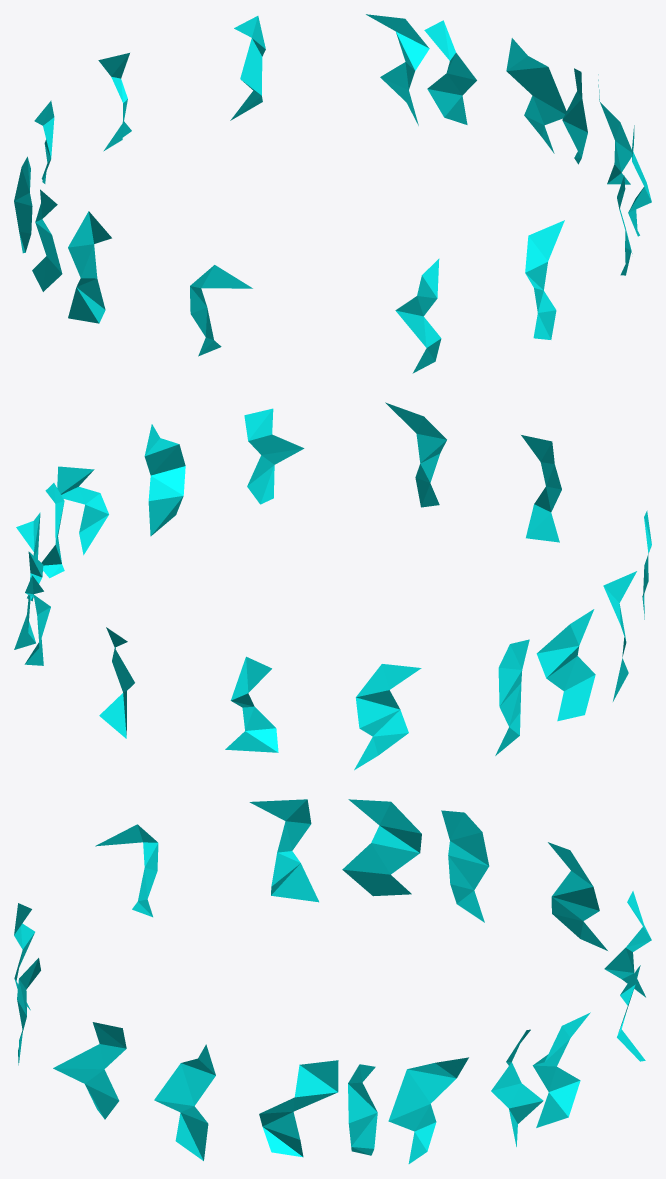
File: converter_lightning.sapphire.obj
3 renders of one model, top to bottom at view 1: azimuth 30°, elevation 25°; view 2: azimuth 150°, elevation 25°; view 3: azimuth 270°, elevation 25°, orthographic. The views are drawn at different scales.
Parts seen in each view (by area): view 1: LightningRing_Plane.033; view 2: LightningRing_Plane.033; view 3: LightningRing_Plane.033.
Boxes of the visible parts, x1,y1,x2,y2 form: LightningRing_Plane.033: [14, 14, 651, 373]; LightningRing_Plane.033: [14, 402, 651, 770]; LightningRing_Plane.033: [14, 799, 651, 1163].
Size of the model in its own units: 0.9454 by 0.1889 by 0.9363.
